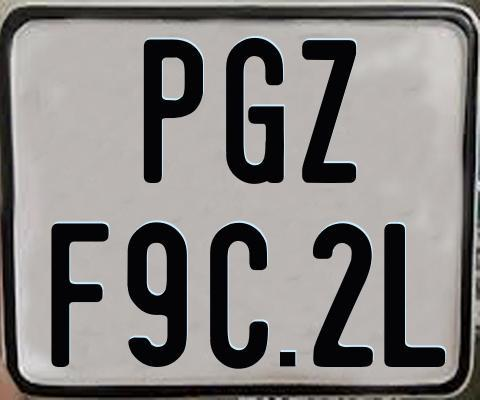2: (313, 221, 379, 368)
9: (124, 222, 186, 369)
C: (208, 220, 266, 367)
F: (51, 220, 113, 367)
G: (226, 35, 290, 183)
L: (382, 224, 449, 370)
P: (141, 38, 206, 188)
Z: (300, 37, 359, 181)
